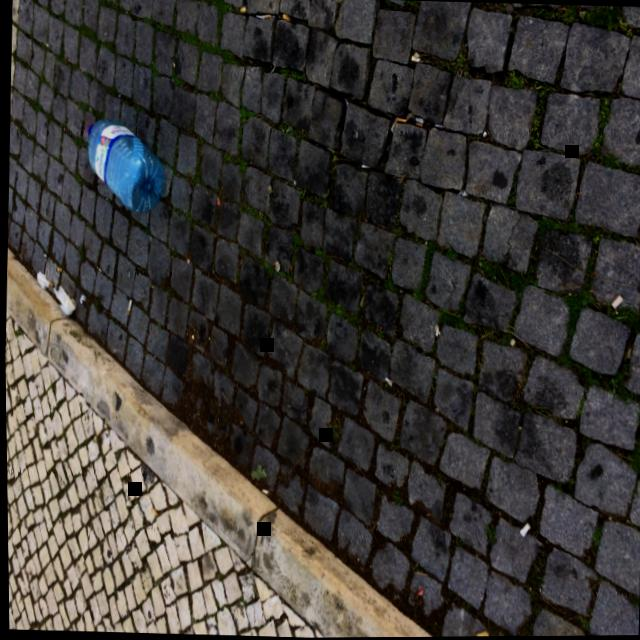Cigarette: (609, 294, 622, 311), (517, 523, 529, 537), (389, 116, 397, 130), (125, 299, 130, 314), (281, 13, 290, 21), (239, 5, 246, 14), (396, 118, 406, 123), (414, 117, 422, 123), (259, 489, 267, 495), (261, 14, 270, 19), (414, 122, 421, 127), (47, 280, 52, 287), (359, 165, 368, 168), (54, 267, 60, 271), (255, 15, 262, 18), (337, 0, 340, 3)
Clear plastic bottle: (86, 118, 162, 213)
